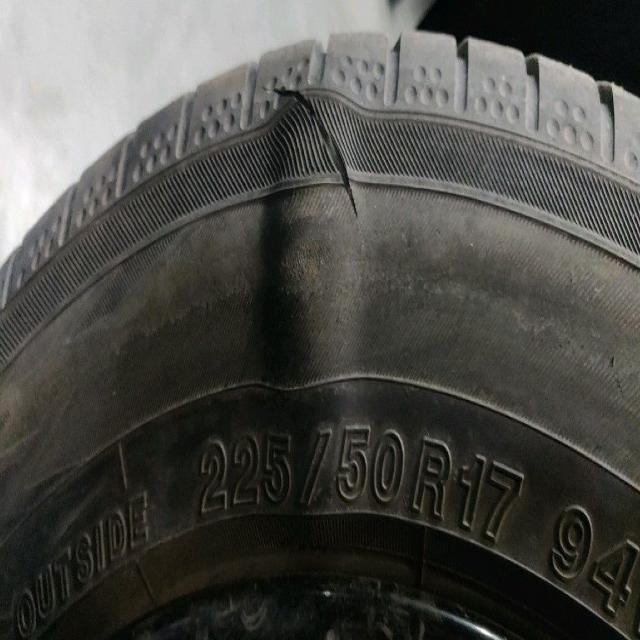Bulge: (245, 122, 354, 471)
